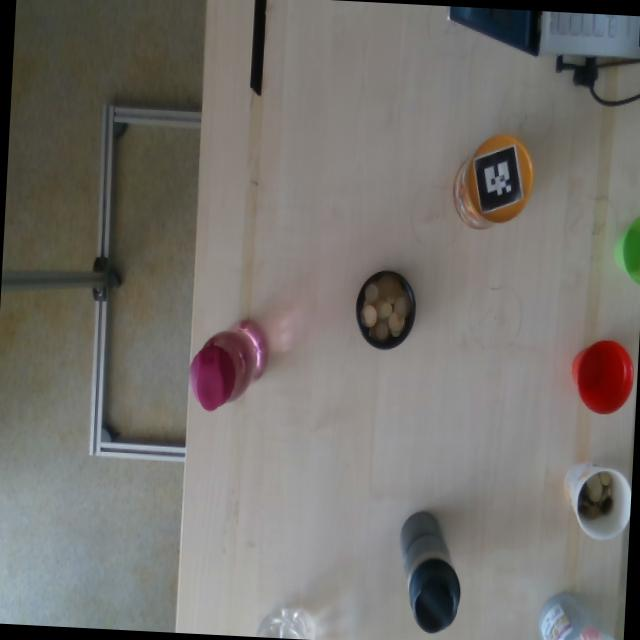cups: (394, 502, 466, 634), (450, 132, 538, 239), (188, 316, 272, 416), (565, 458, 633, 545), (354, 266, 419, 352), (570, 336, 636, 418), (538, 591, 626, 640), (613, 206, 640, 292), (248, 607, 314, 640)
